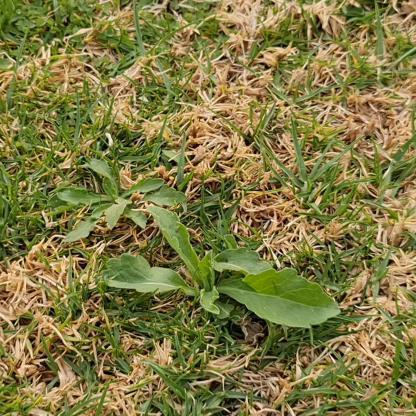Weeds: (102, 203, 342, 329), (44, 159, 186, 245)
